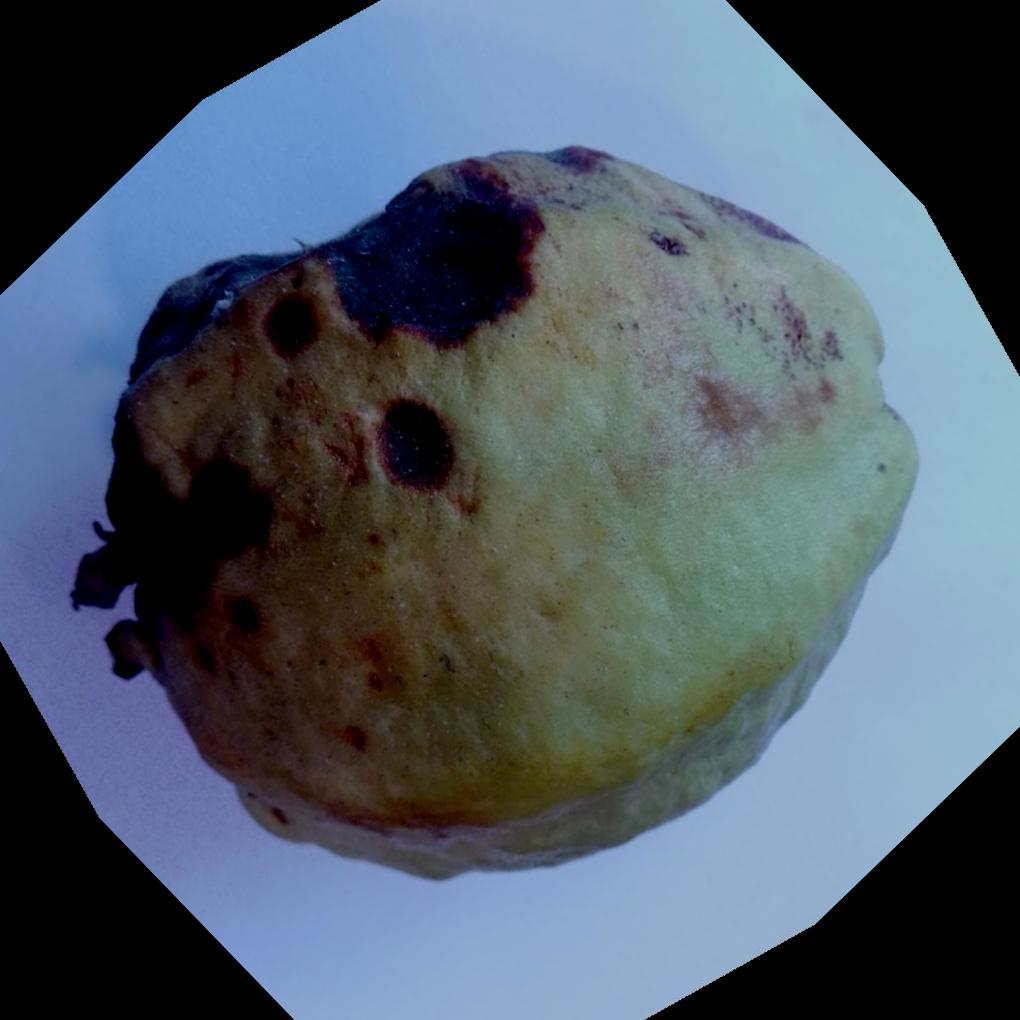FreshOrange: (68, 141, 918, 880)
